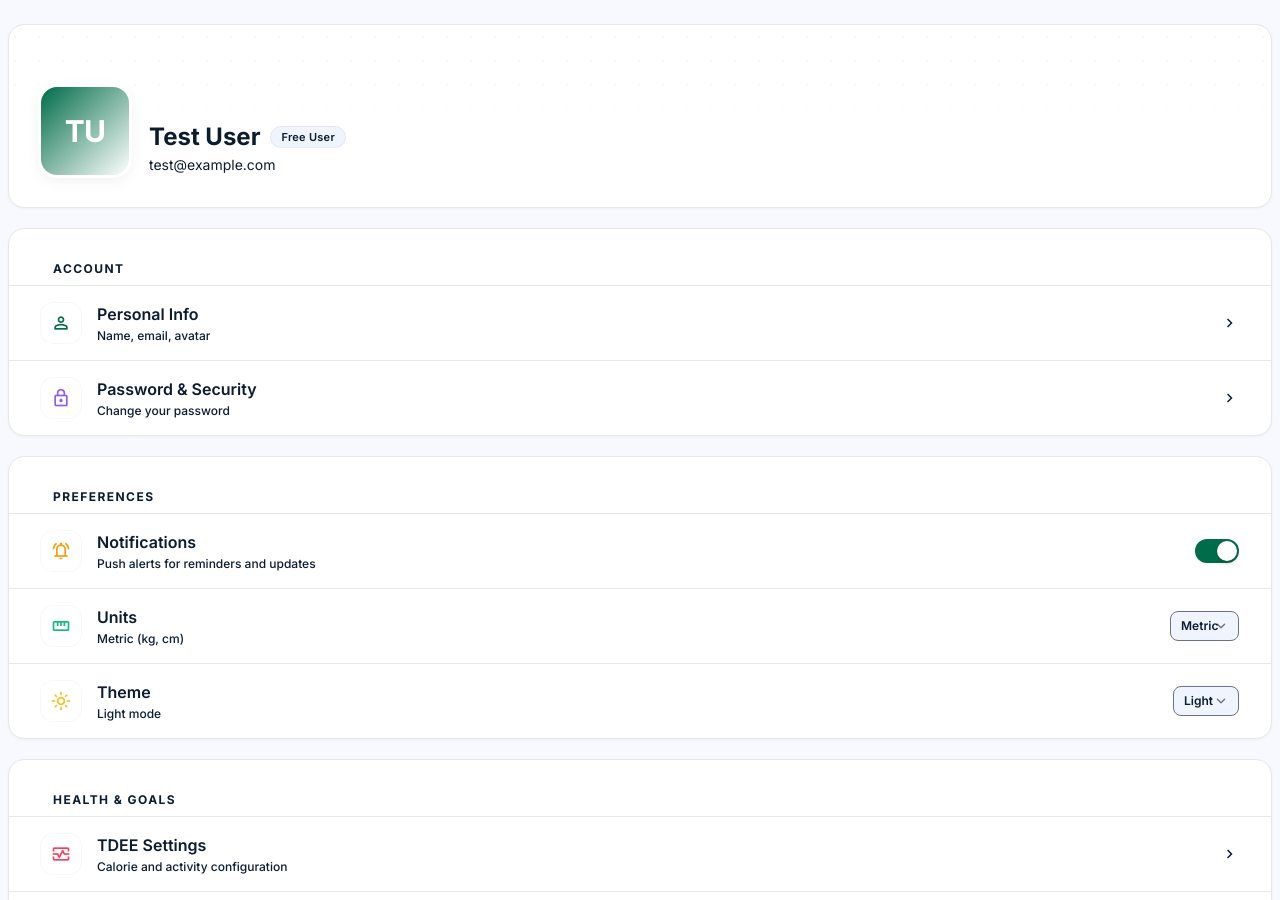
SettingsPage › shows success feedback when settings saved
The image size is (1280, 900).
Click the switch at [1217, 551], box [1195, 539, 1239, 563]
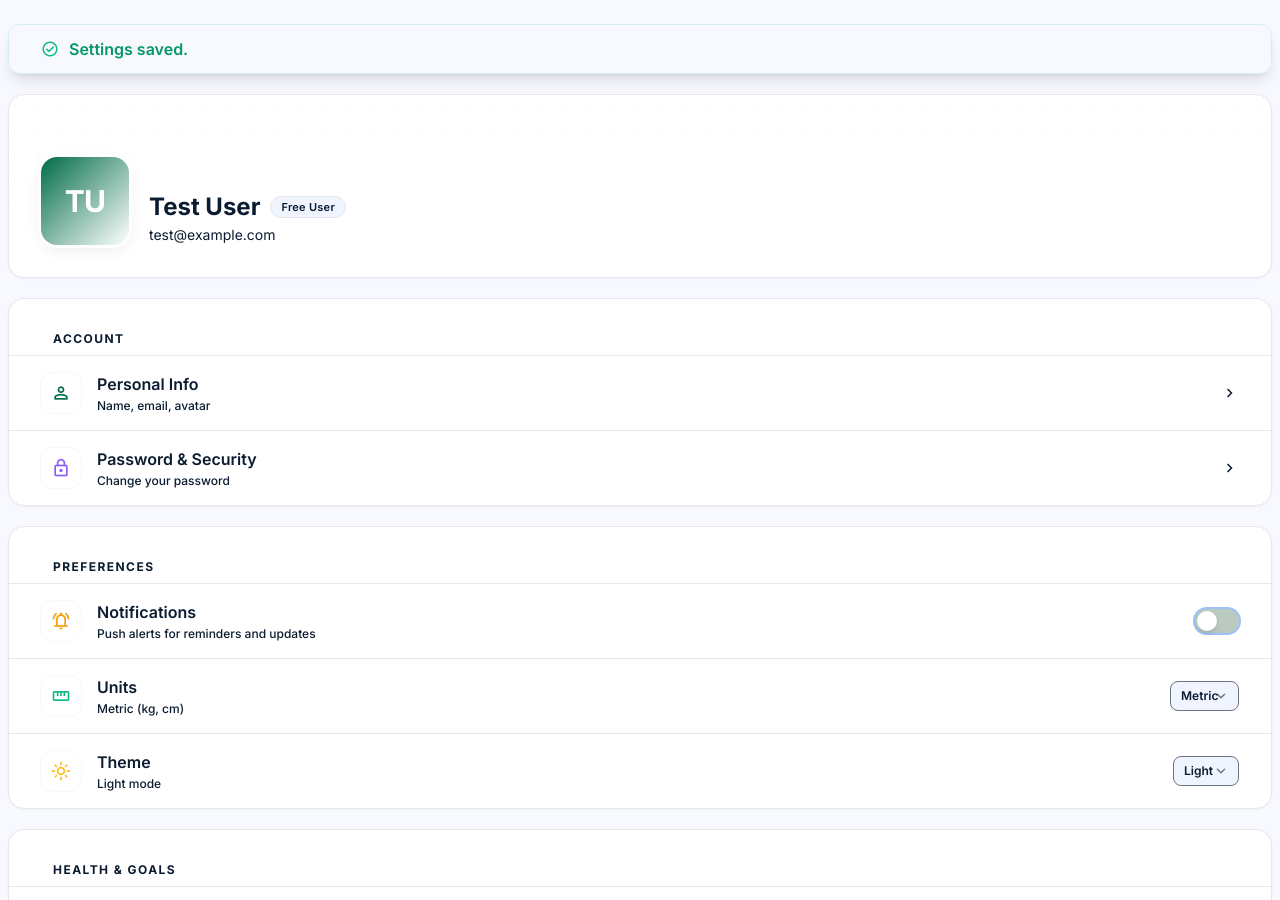
Now the text "Settings saved." is shown, box [8, 24, 1272, 74]
